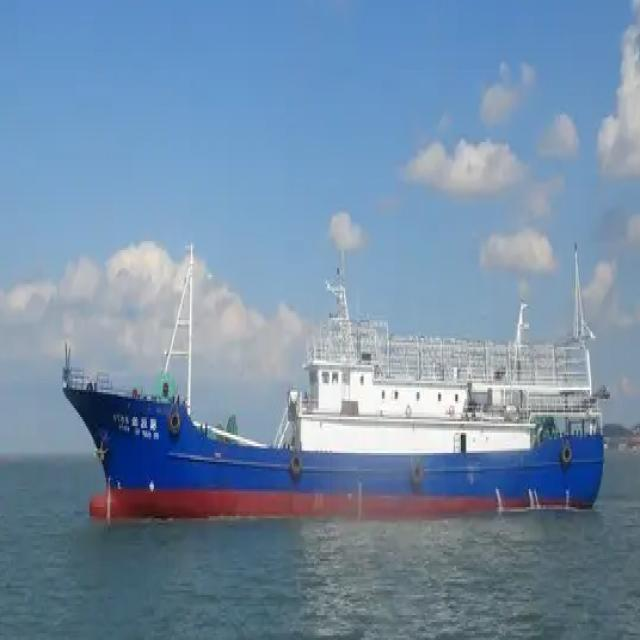cargoship: (58, 227, 600, 517)
